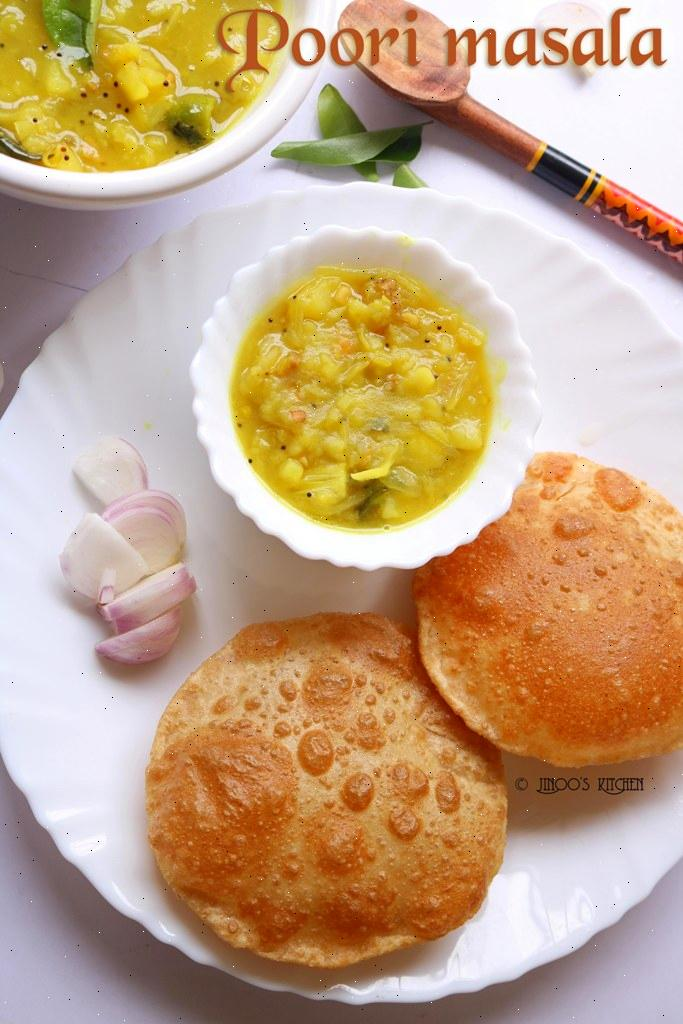puri: (140, 630, 683, 942)
